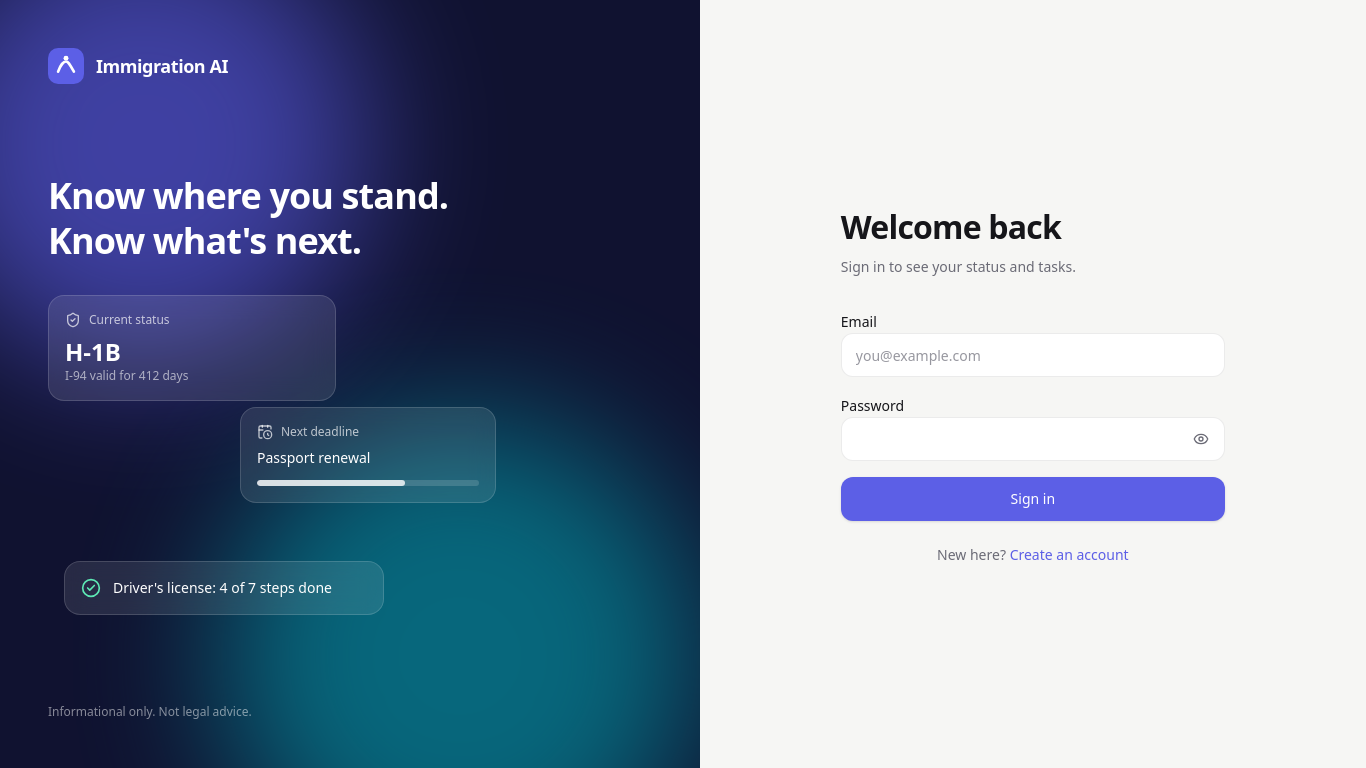
Login page › shows the lockout message after too many attempts
Type "me@example.com" into the field labelled "Email". click: (1033, 355)
box: [841,333,1225,377]
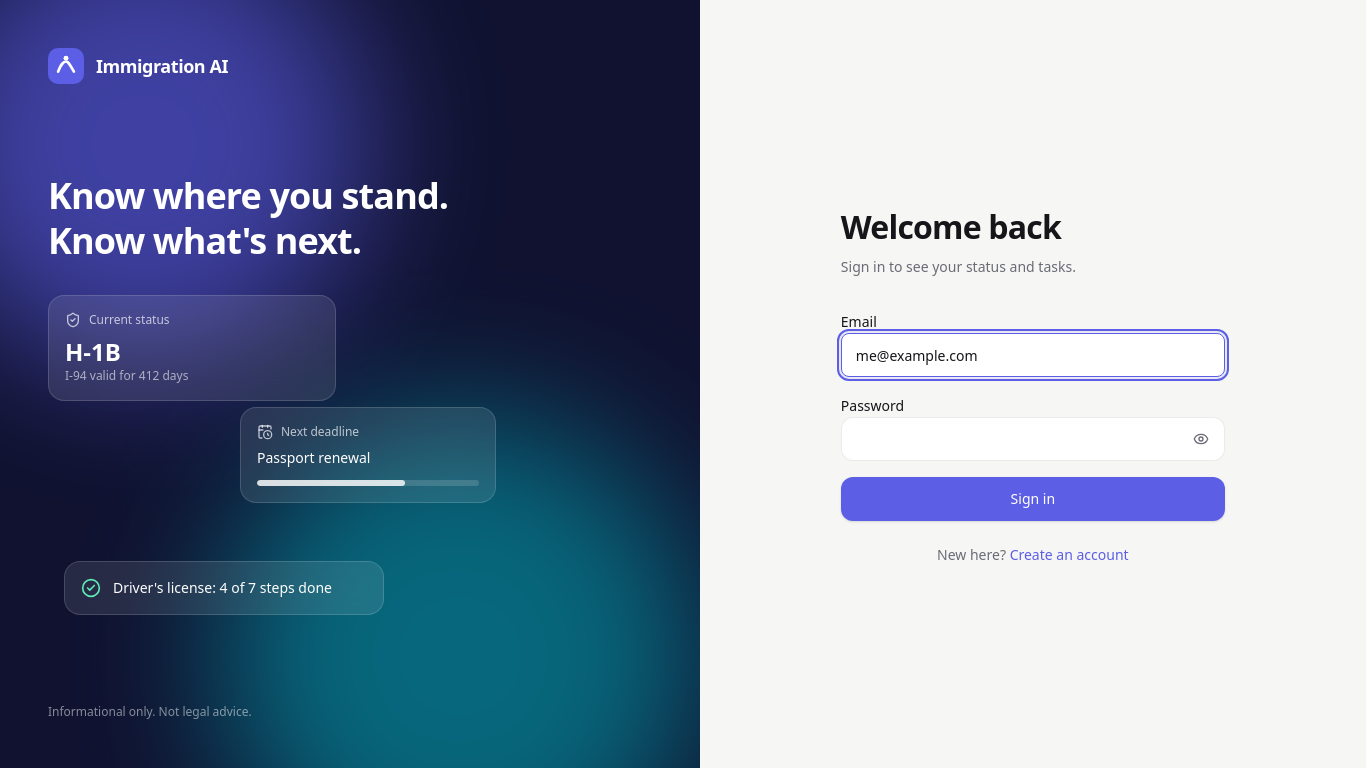
Type "x" into the password field labelled "Password". click: (1033, 439)
box: [841,417,1225,461]
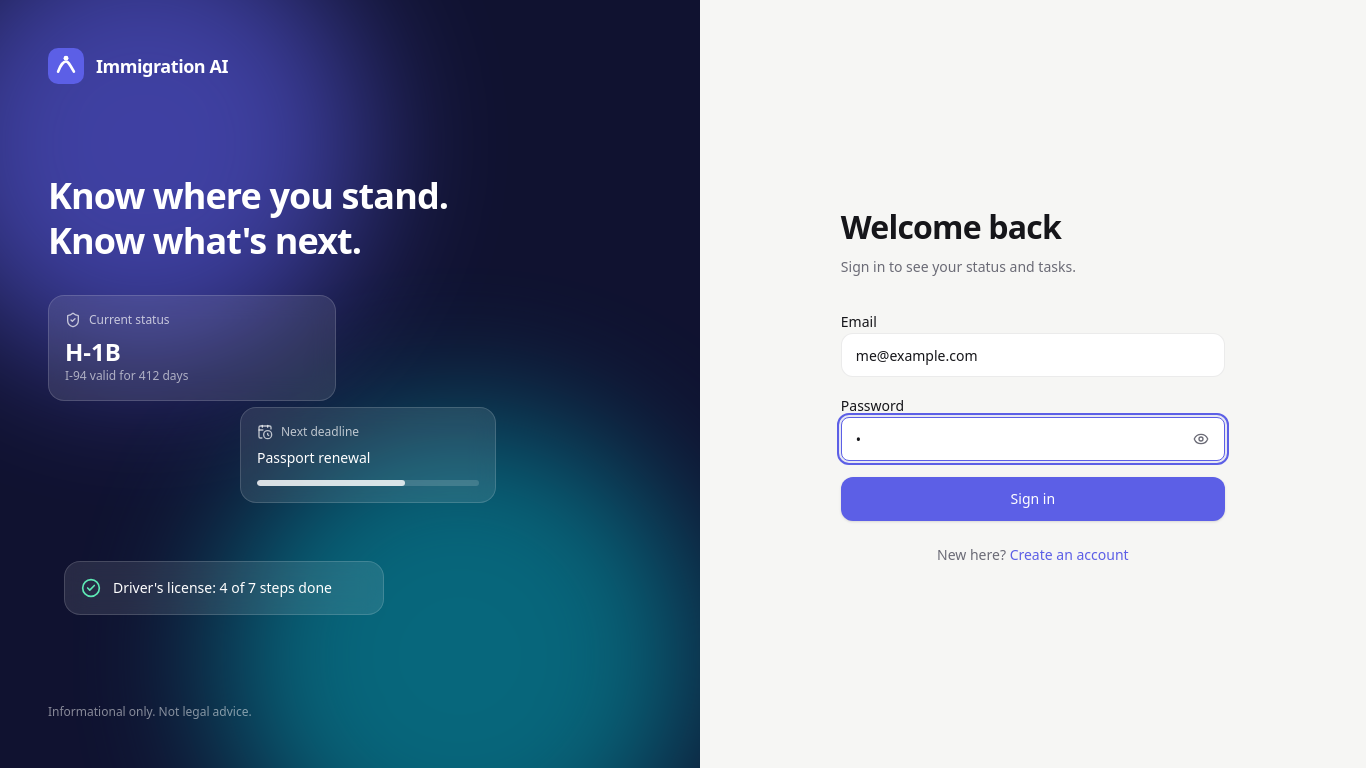
Click the button "Sign in". click: (1033, 499)
box: [841,477,1225,521]
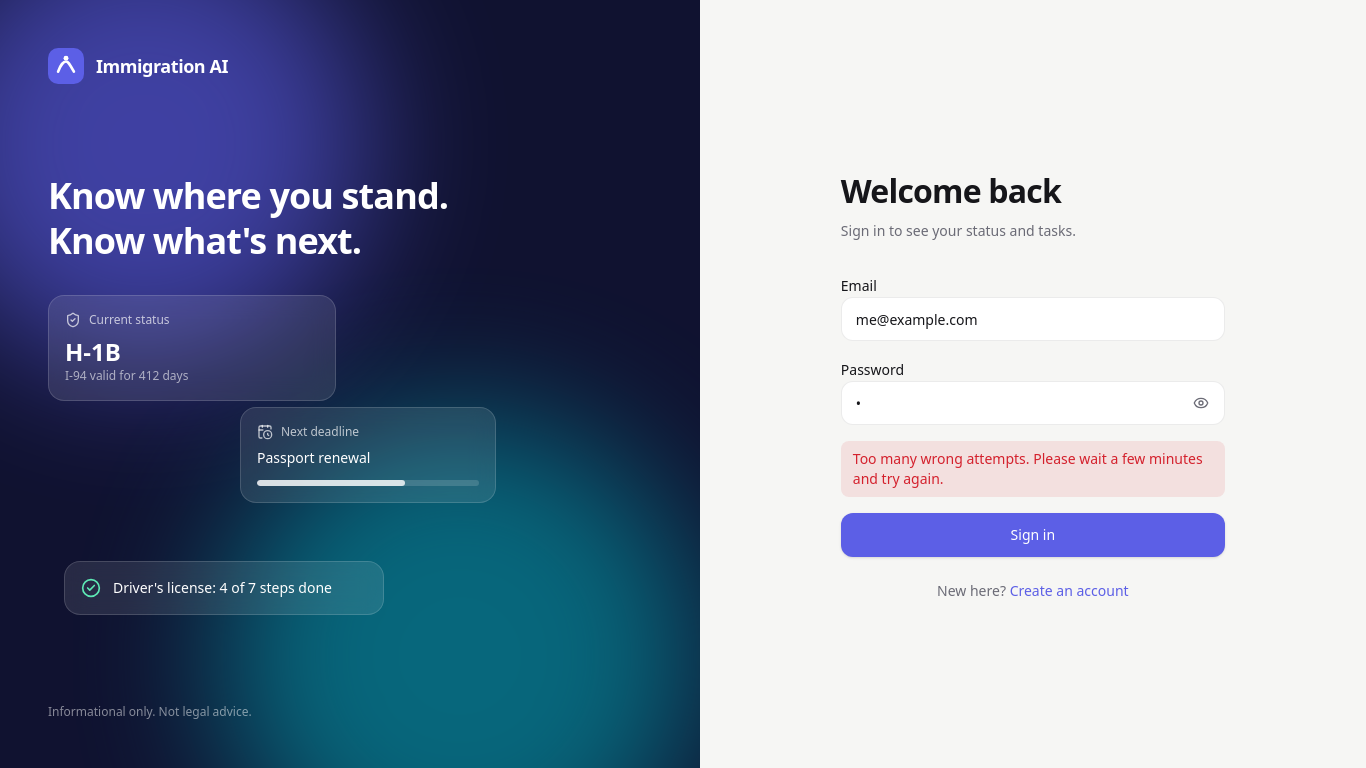
Now the message shows "Too many wrong attempts", box [853,449,1203,488]
